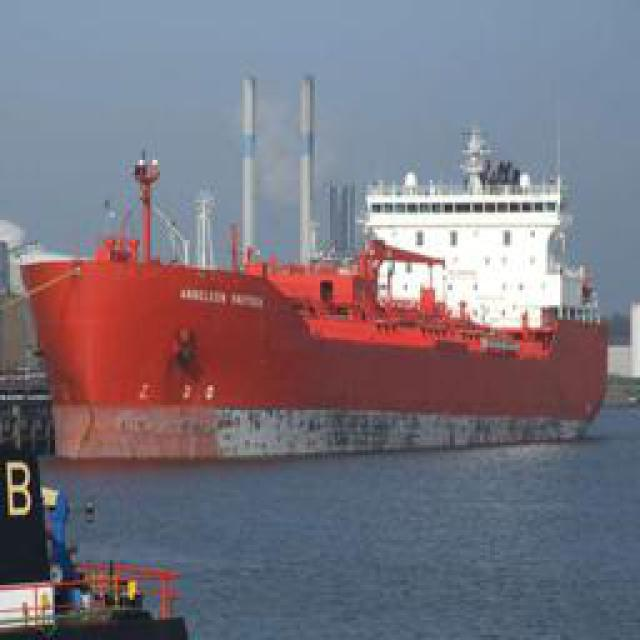Ship: (21, 80, 601, 448)
